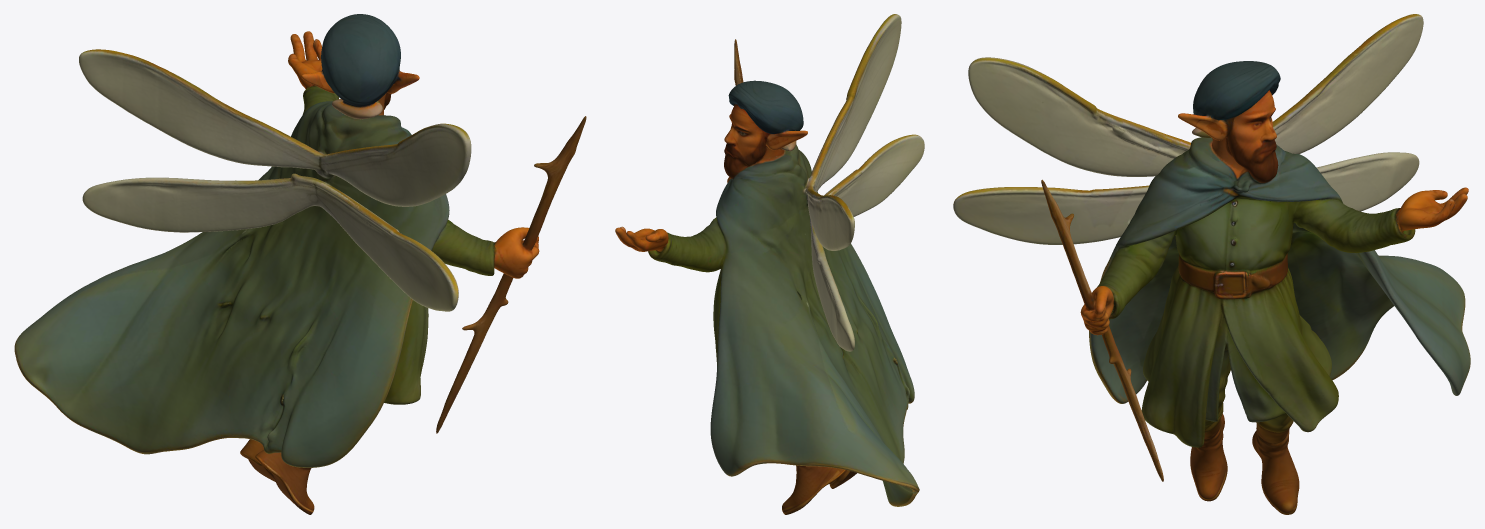
3 views of the same model, side by side, from view 1: azimuth 30°, elevation 25°; view 2: azimuth 150°, elevation 25°; view 3: azimuth 270°, elevation 25° (orthographic). The views are drawn at different scales.
Visible parts, largest first — view 1: tripo_node_090313d1-274b-49c7-afad-e7e1dcc884cd; view 2: tripo_node_090313d1-274b-49c7-afad-e7e1dcc884cd; view 3: tripo_node_090313d1-274b-49c7-afad-e7e1dcc884cd.
Boxes of the visible parts, bbox=[...] form: tripo_node_090313d1-274b-49c7-afad-e7e1dcc884cd: bbox=[14, 14, 586, 514]; tripo_node_090313d1-274b-49c7-afad-e7e1dcc884cd: bbox=[615, 14, 924, 514]; tripo_node_090313d1-274b-49c7-afad-e7e1dcc884cd: bbox=[953, 14, 1470, 514].
Bounding box in the file's own units: 0.8696 × 1 × 0.9842.
1 material, 1 textured.
